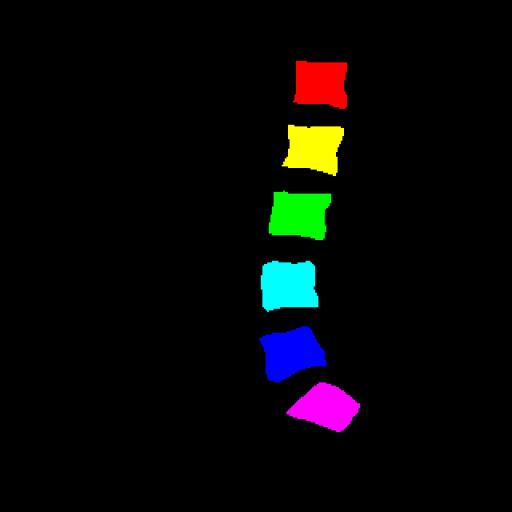L1: (294, 62, 347, 109)
L2: (282, 125, 344, 176)
L3: (269, 191, 331, 240)
L4: (261, 261, 318, 311)
L5: (260, 326, 326, 382)
S1: (287, 382, 360, 432)
